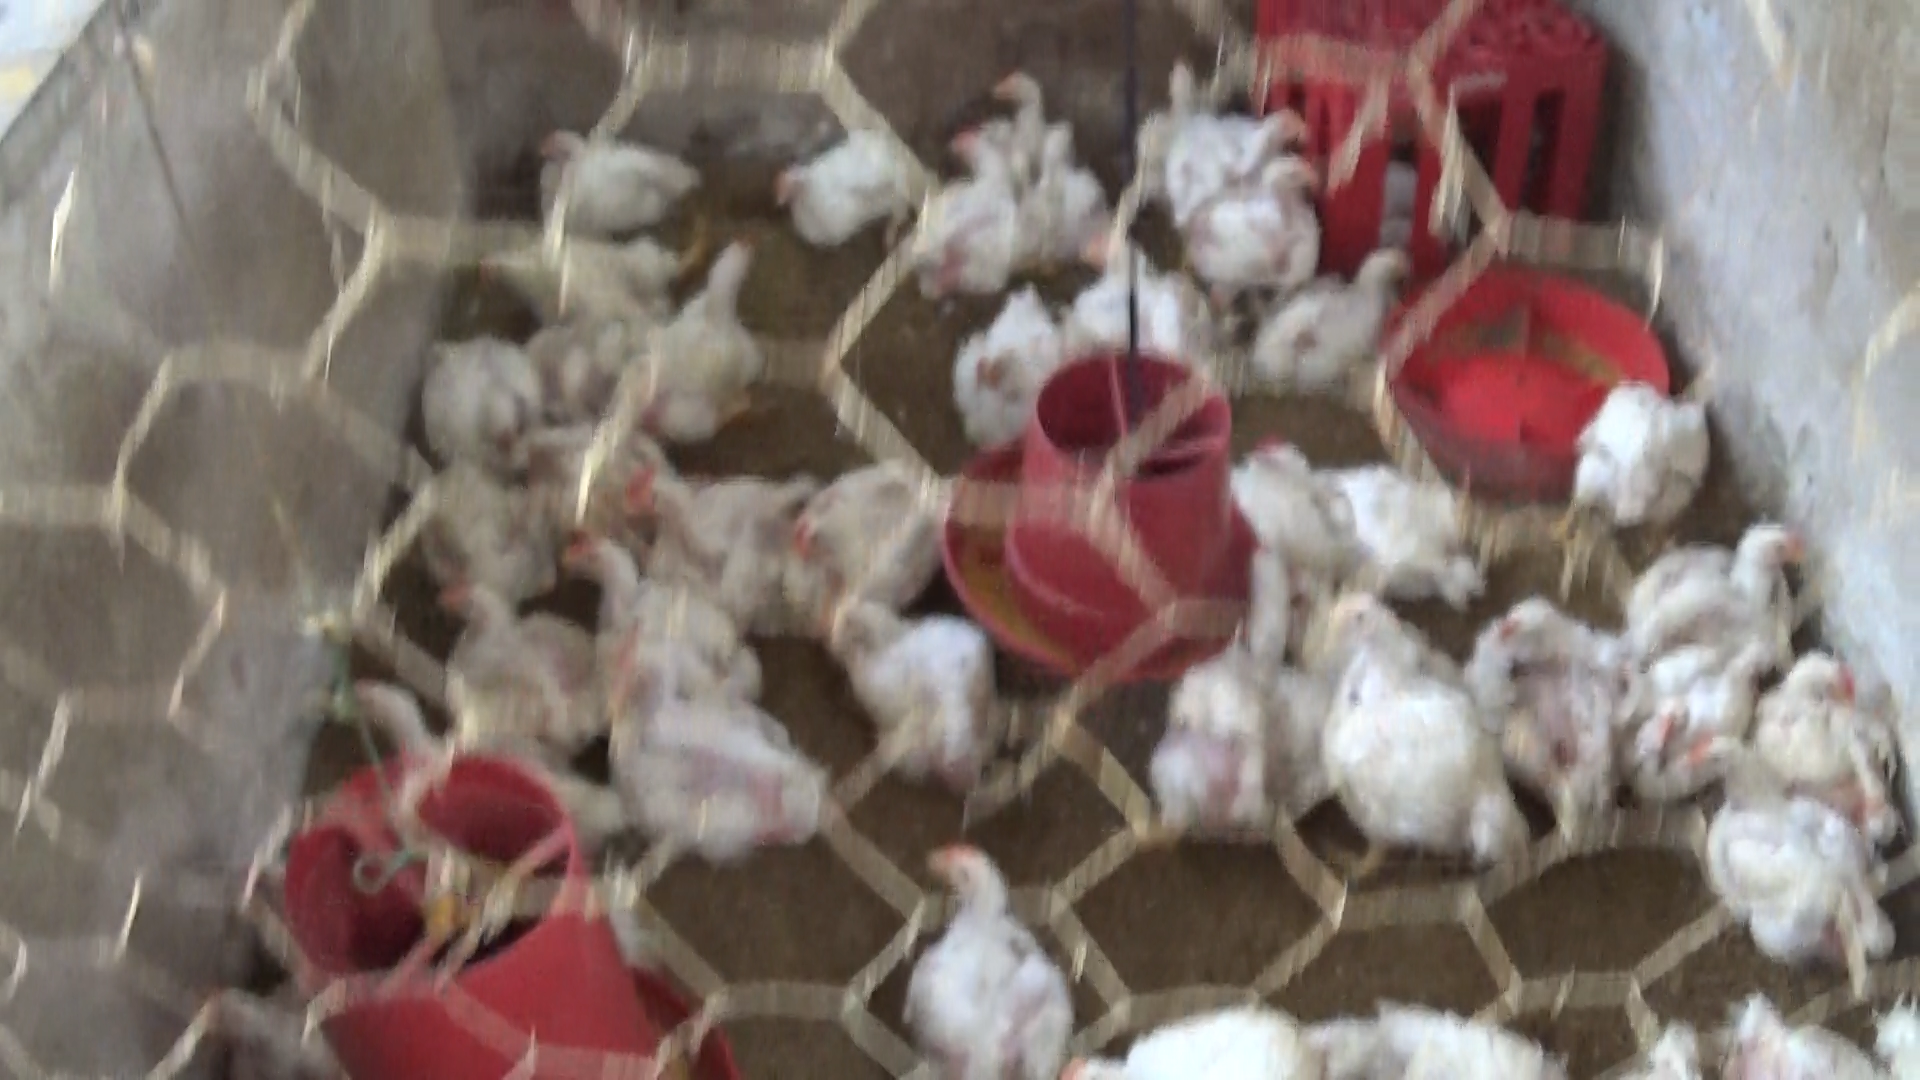Pollos: (1146, 585, 1331, 857), (1327, 593, 1513, 858), (814, 558, 1006, 812), (545, 535, 767, 731), (897, 833, 1071, 1080), (1458, 583, 1633, 822), (433, 531, 593, 760), (761, 469, 956, 646), (1749, 642, 1913, 829), (1563, 359, 1721, 538), (508, 102, 709, 233), (1221, 425, 1386, 583), (1625, 516, 1803, 662), (465, 204, 691, 318), (360, 436, 545, 567), (1259, 248, 1416, 393), (612, 440, 786, 568), (938, 280, 1069, 447), (897, 123, 1019, 291), (401, 318, 551, 447), (1178, 164, 1327, 268), (773, 123, 924, 222), (1085, 212, 1178, 368), (978, 37, 1062, 144)
